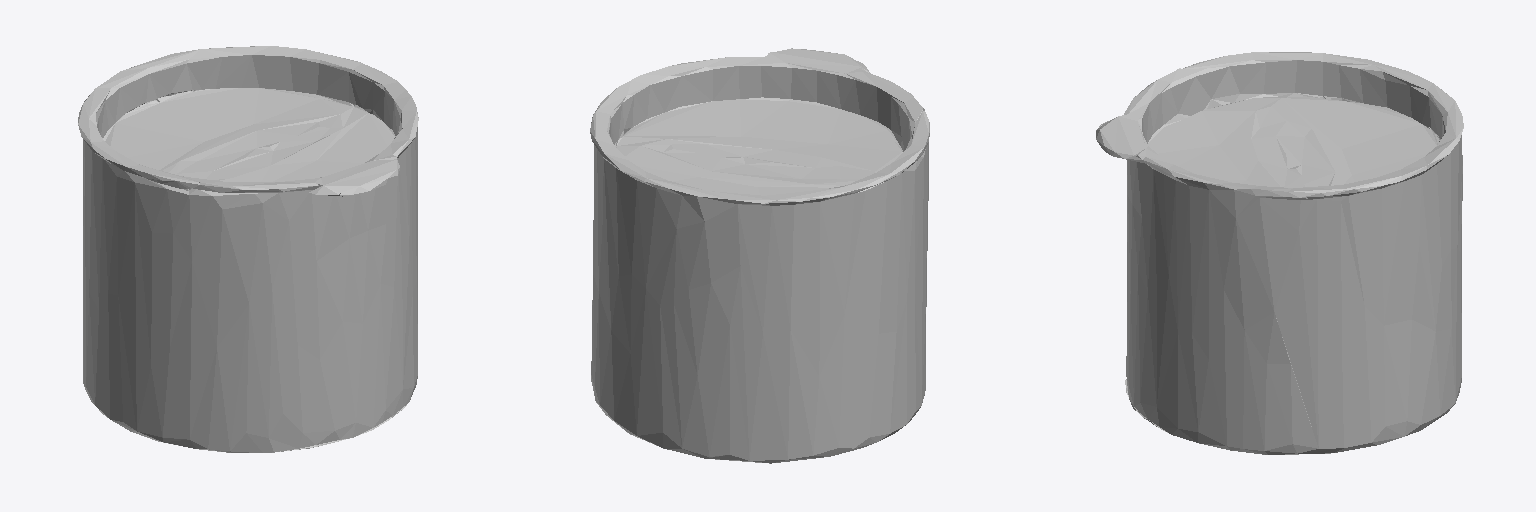
The model's file is textured_simple.obj.
3 renders of one model, left to right at view 1: azimuth 30°, elevation 25°; view 2: azimuth 150°, elevation 25°; view 3: azimuth 270°, elevation 25°, orthographic.
Visible parts, largest first — view 1: textured.004; view 2: textured.004; view 3: textured.004.
Part boxes in pixels (bbox=[...]): textured.004: bbox=[78, 46, 418, 452]; textured.004: bbox=[590, 48, 929, 463]; textured.004: bbox=[1096, 52, 1463, 454].
Bounding box in the file's own units: 6.62 × 5.82 × 7.12.